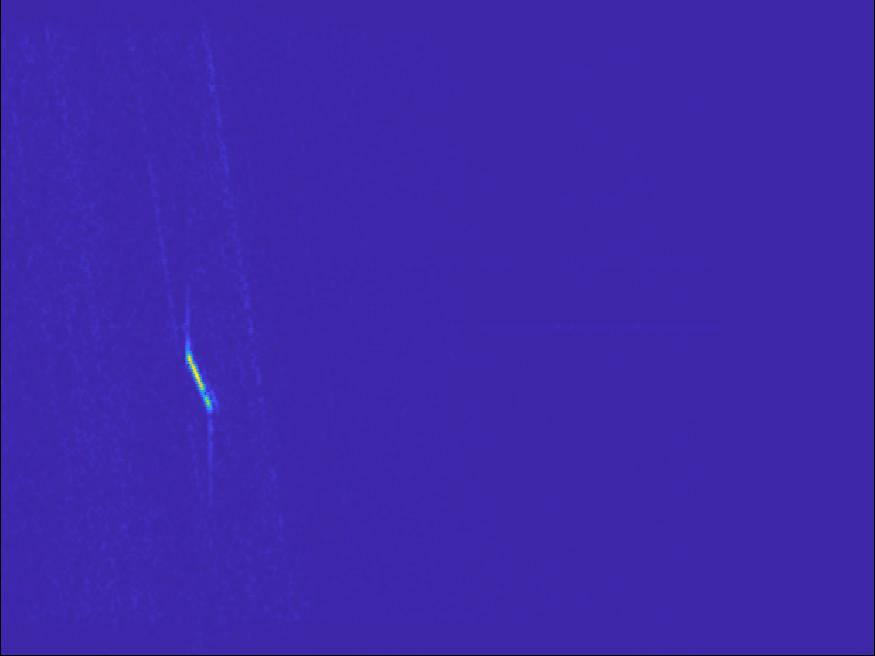Interference: (395, 518, 558, 656), (545, 1, 616, 39)
